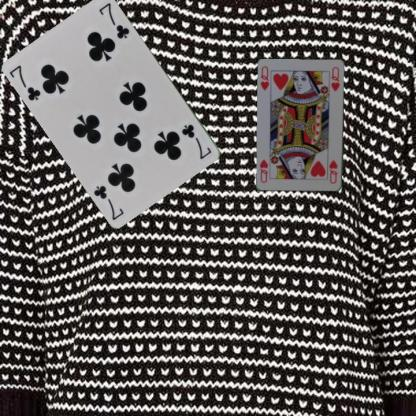7c: (7, 62, 42, 102), (179, 121, 213, 161)
Qh: (327, 158, 339, 185), (258, 64, 270, 91)
